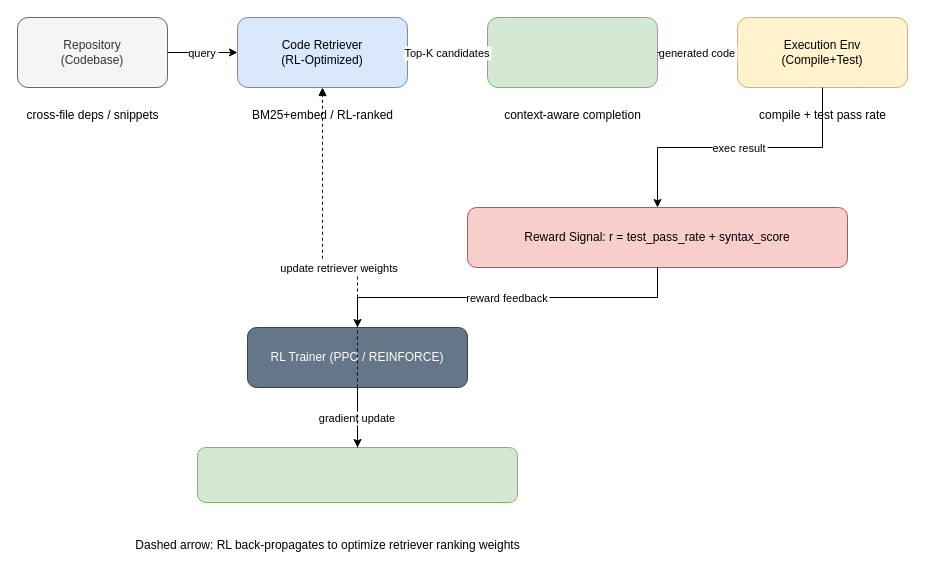
Some shapes in this 925 by 580 pixel diagram are drawn without their labels. The box of each missing label's shape, as (x1, y1, x2, y2) in pixels:
Code Generator (LLM): (486, 16, 658, 88)
Policy Update: theta <- theta + alpha * grad_J(theta): (196, 446, 518, 502)
